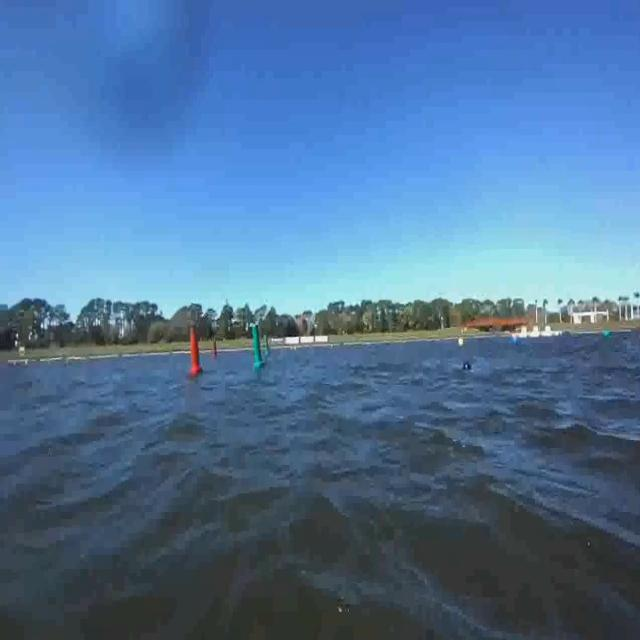blue-buoy: (462, 359, 472, 374)
green-column-buoy: (250, 325, 265, 368), (266, 336, 272, 354)
red-column-buoy: (190, 328, 204, 375), (213, 342, 219, 361)
yellow-buoy: (459, 338, 465, 349)
